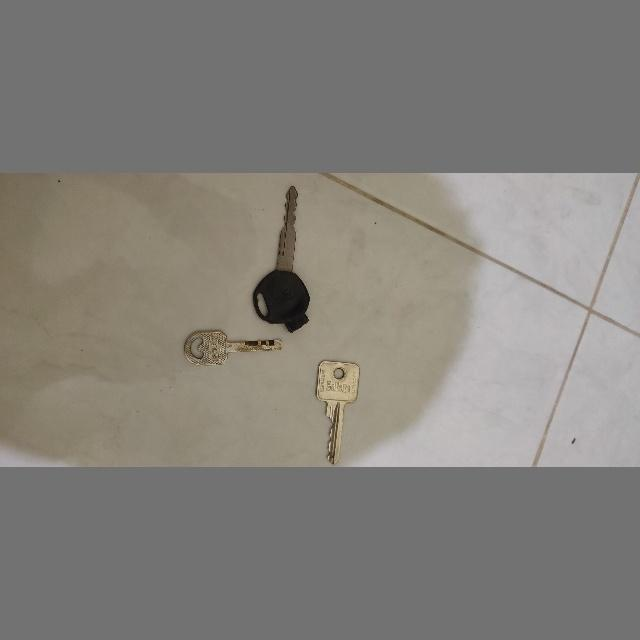Keys: (249, 183, 311, 334), (314, 356, 364, 464), (180, 329, 284, 369)
